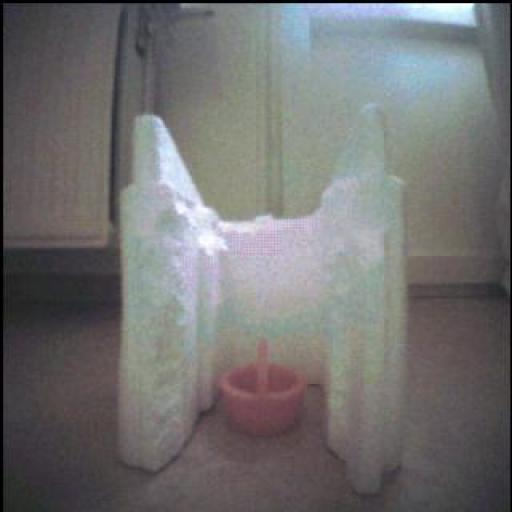Basket: (223, 334, 309, 436)
